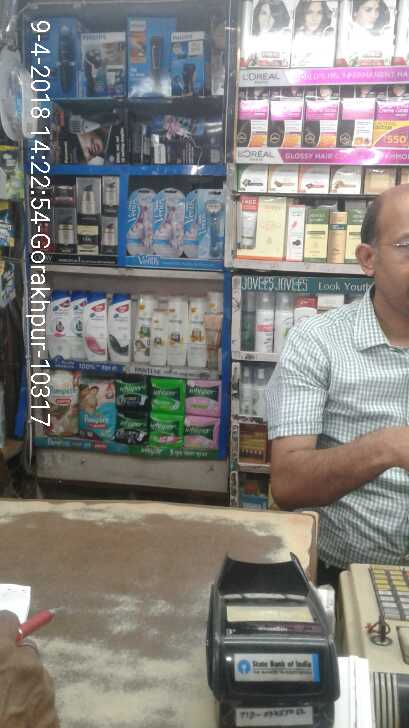venus: (155, 187, 187, 257), (191, 189, 221, 258), (128, 188, 153, 255)
